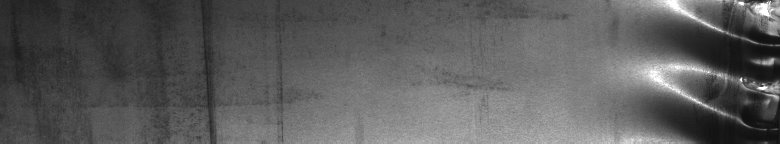ke: (662, 4, 776, 136)
